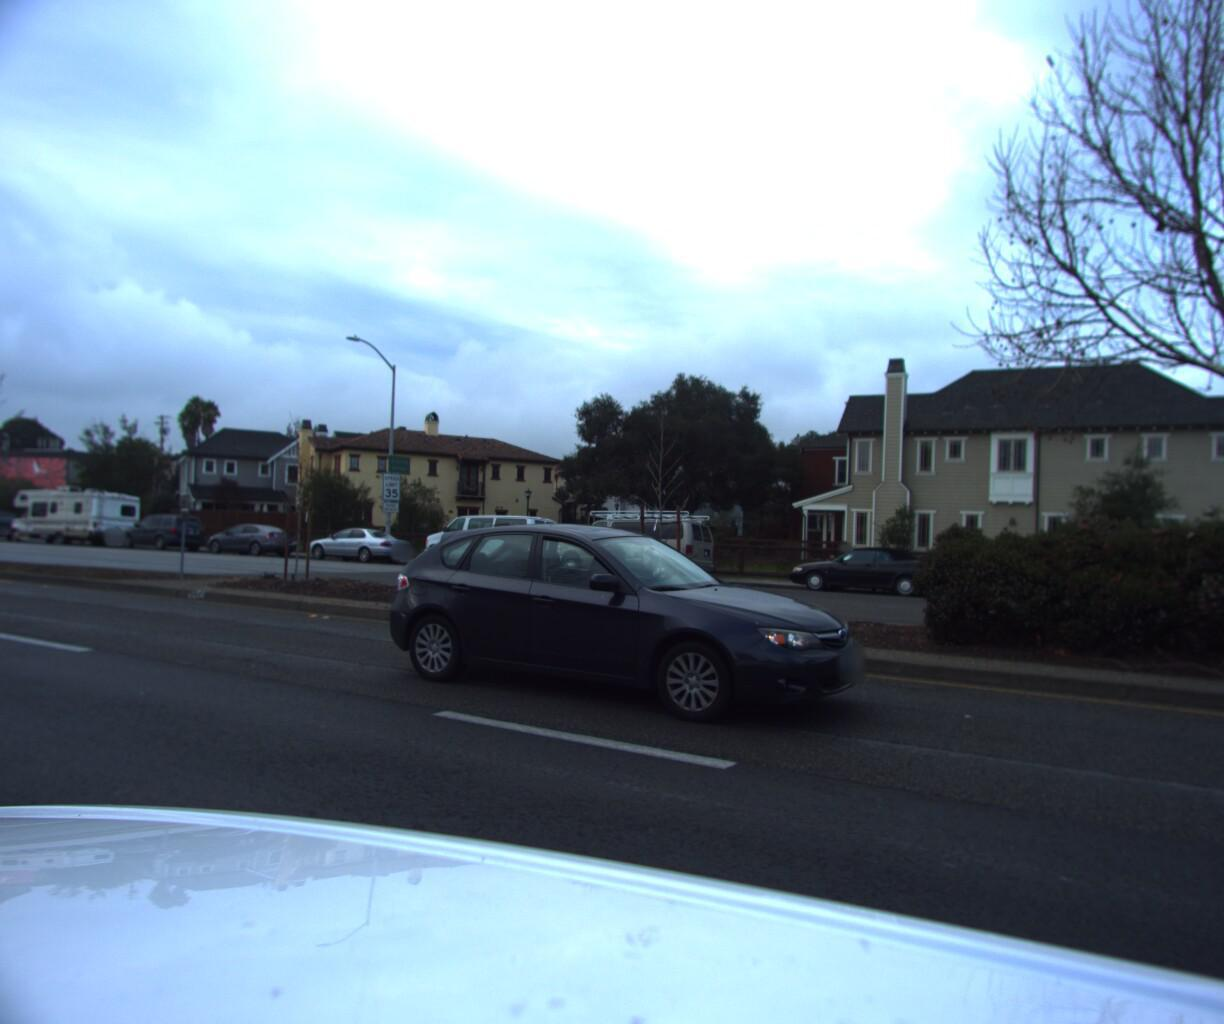car: (381, 522, 889, 749), (541, 508, 720, 585), (774, 543, 948, 605), (410, 513, 564, 579), (292, 528, 417, 570), (108, 515, 209, 558), (193, 524, 301, 563), (0, 513, 23, 548)
other_vehicle: (0, 487, 145, 553)
